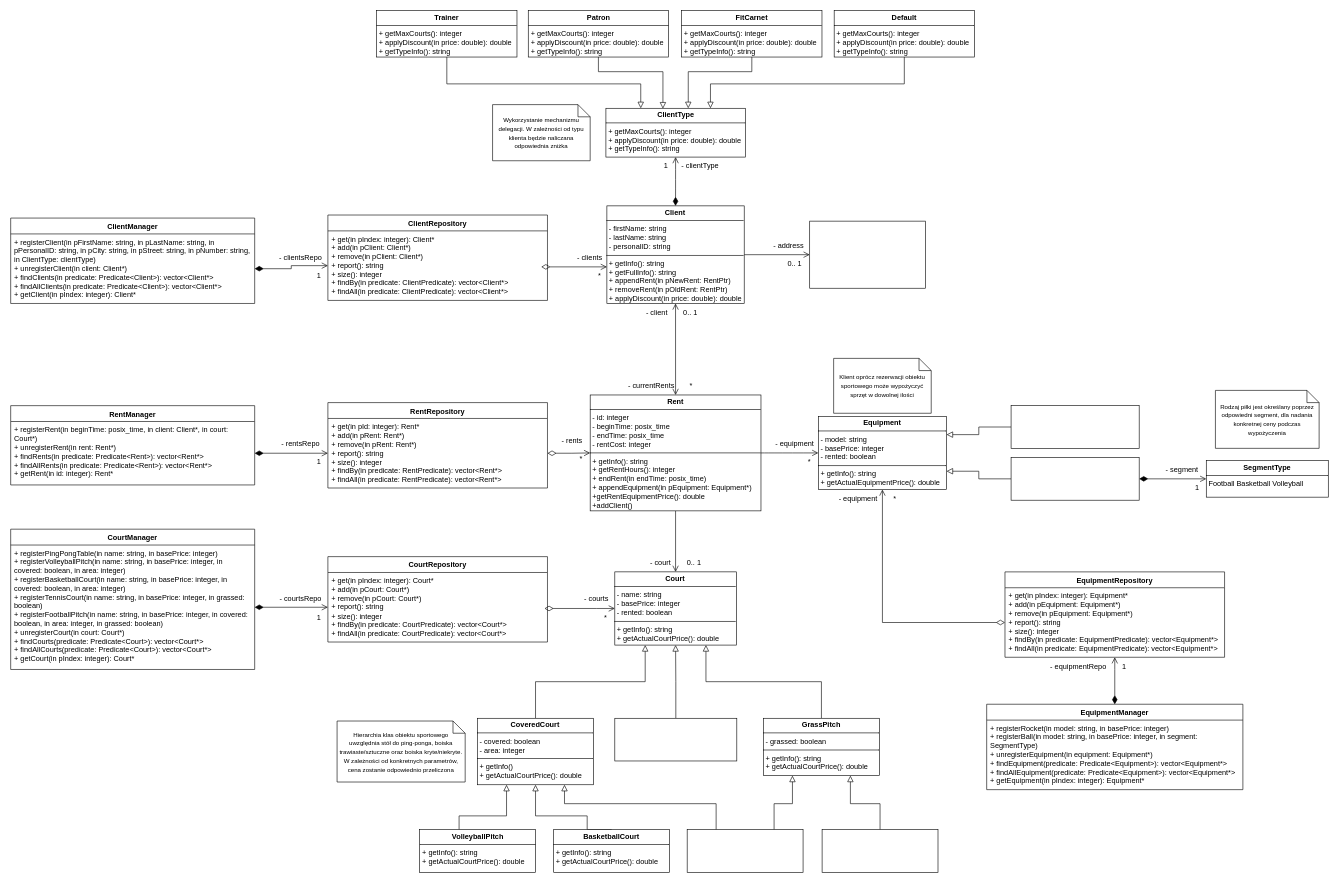
This 1339x883 diagram has some shape labels left out. Here are the shapes that lost their labels. From the top down, the centre of each, then its label:
At pixel 867 254: "Address - city: string - street: string - number: string + getInfo(): string".
At pixel 1074 426: "Rocket + getInfo(): string + getActualEquipmentPrice(): double".
At pixel 1074 478: "Ball + getInfo(): string + getActualEquipmentPrice(): double".
At pixel 675 739: "PingPongTable + getInfo(): string + getActual Court Price(): double".
At pixel 745 850: "FootballPitch + getInfo(): string + getActual Court Price(): double".
At pixel 879 850: "TennisCourt + getInfo(): string + getActualCourtPrice(): double".
